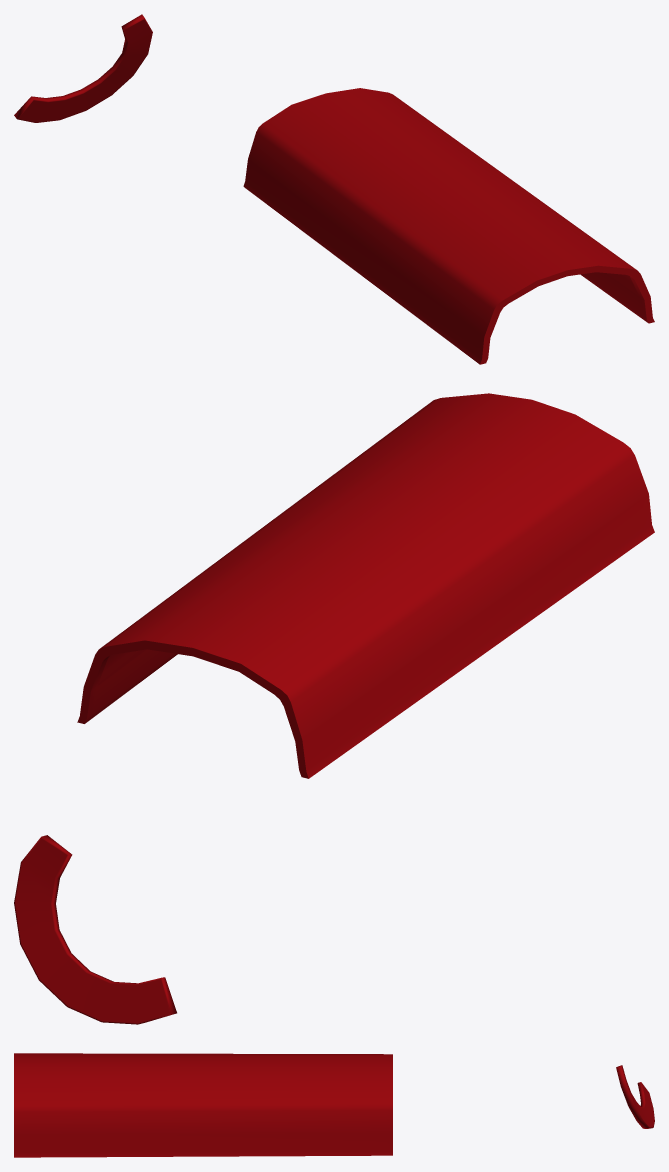
File: AM2_Vesper3_3.fbx
3 renders of one model, top to bottom at view 1: azimuth 30°, elevation 25°; view 2: azimuth 150°, elevation 25°; view 3: azimuth 270°, elevation 25°, orthographic. The views are drawn at different scales.
Parts seen in each view (by area): view 1: body_barrelHolder_lp; view 2: body_barrelHolder_lp; view 3: body_barrelHolder_lp.
Part boxes in pixels (box(x1,y1,x2,y2)): body_barrelHolder_lp: box(14, 14, 654, 364); body_barrelHolder_lp: box(14, 393, 654, 1024); body_barrelHolder_lp: box(14, 1053, 654, 1157).
Bounding box in the file's own units: 28.74 × 14.08 × 86.1.
